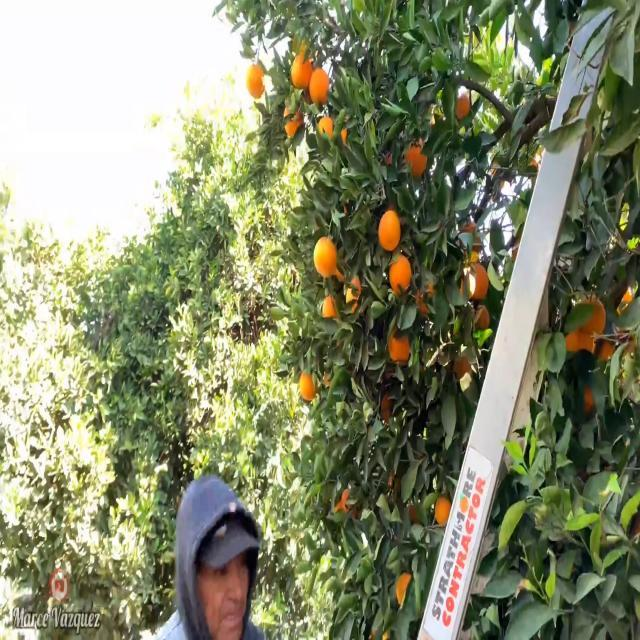Jeruk Sudah Matang: (386, 243, 415, 298), (402, 129, 428, 179), (375, 205, 403, 251), (312, 233, 341, 277), (243, 58, 270, 104), (308, 62, 332, 110), (385, 322, 412, 364), (290, 50, 314, 90), (296, 363, 318, 400), (434, 495, 452, 528)
